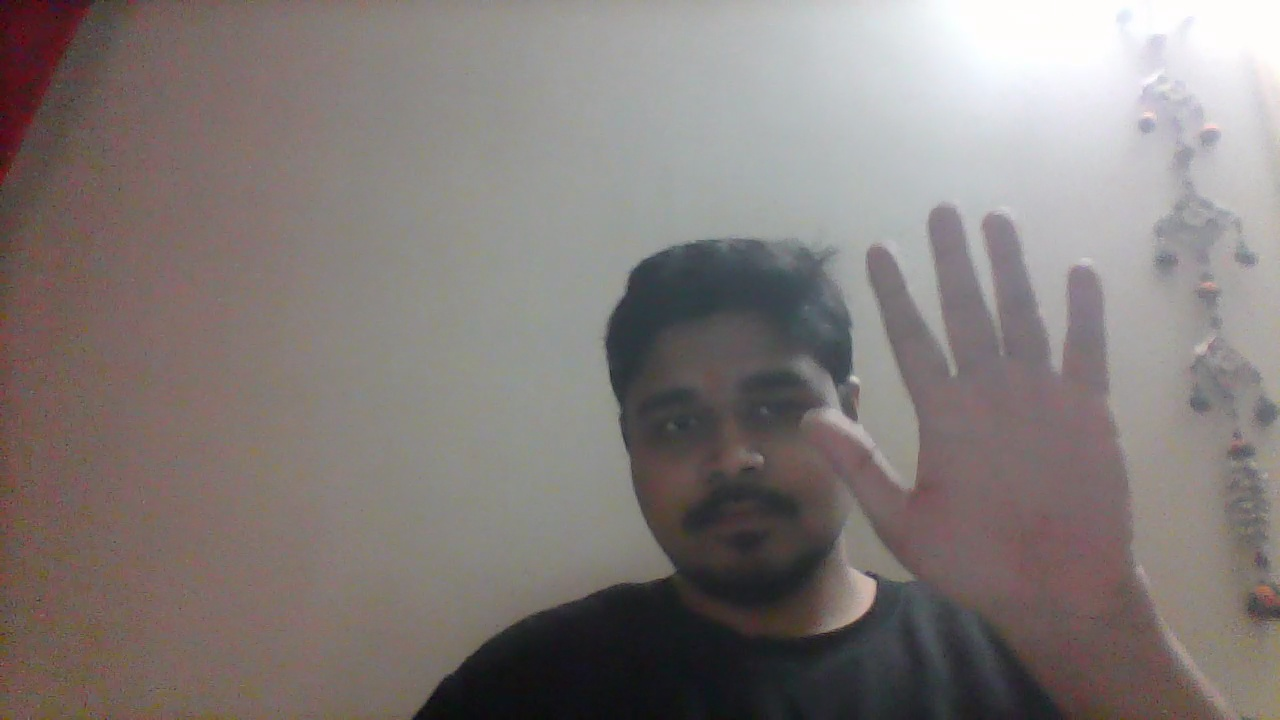Hello: (803, 194, 1158, 716)
